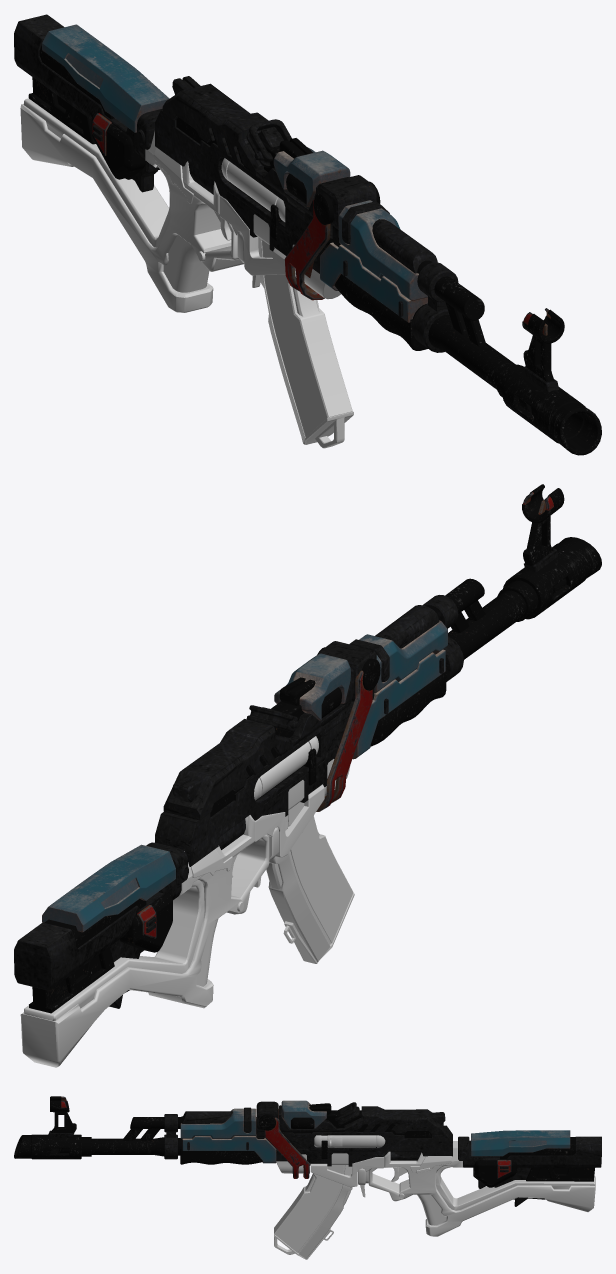
3 views of the same model, one above another, from view 1: azimuth 30°, elevation 25°; view 2: azimuth 150°, elevation 25°; view 3: azimuth 270°, elevation 25° (orthographic). The views are drawn at different scales.
Visible parts, largest first — view 1: AK_Barrel, AK_Body, AK_Grip, AK_Stok, AK_Mag; view 2: AK_Body, AK_Grip, AK_Barrel, AK_Stok, AK_Mag; view 3: AK_Body, AK_Grip, AK_Barrel, AK_Stok, AK_Mag.
Boxes of the visible parts, x1,y1,x2,y2 form: AK_Barrel: (320,200,601,455); AK_Body: (155,76,389,300); AK_Grip: (20,98,340,312); AK_Stok: (14,14,169,192); AK_Mag: (258,237,353,448); AK_Body: (155,639,389,866); AK_Grip: (20,736,350,1067); AK_Barrel: (352,484,601,759); AK_Stok: (14,842,188,1013); AK_Mag: (266,802,354,963); AK_Body: (244,1100,452,1178); AK_Grip: (276,1135,595,1236); AK_Barrel: (14,1096,276,1164); AK_Stok: (458,1130,601,1206); AK_Mag: (274,1165,352,1259).
Size of the model in its own units: 0.0572 by 0.2939 by 0.9806.
